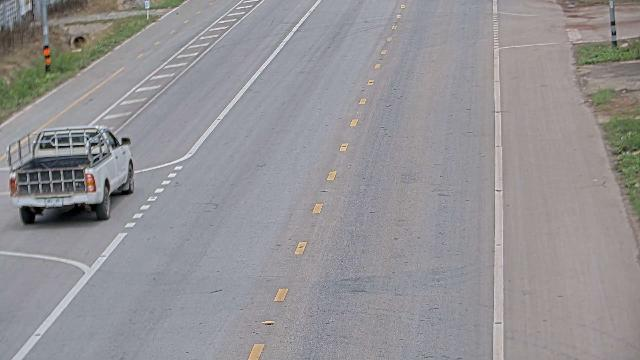pickup-truck: (5, 124, 135, 224)
